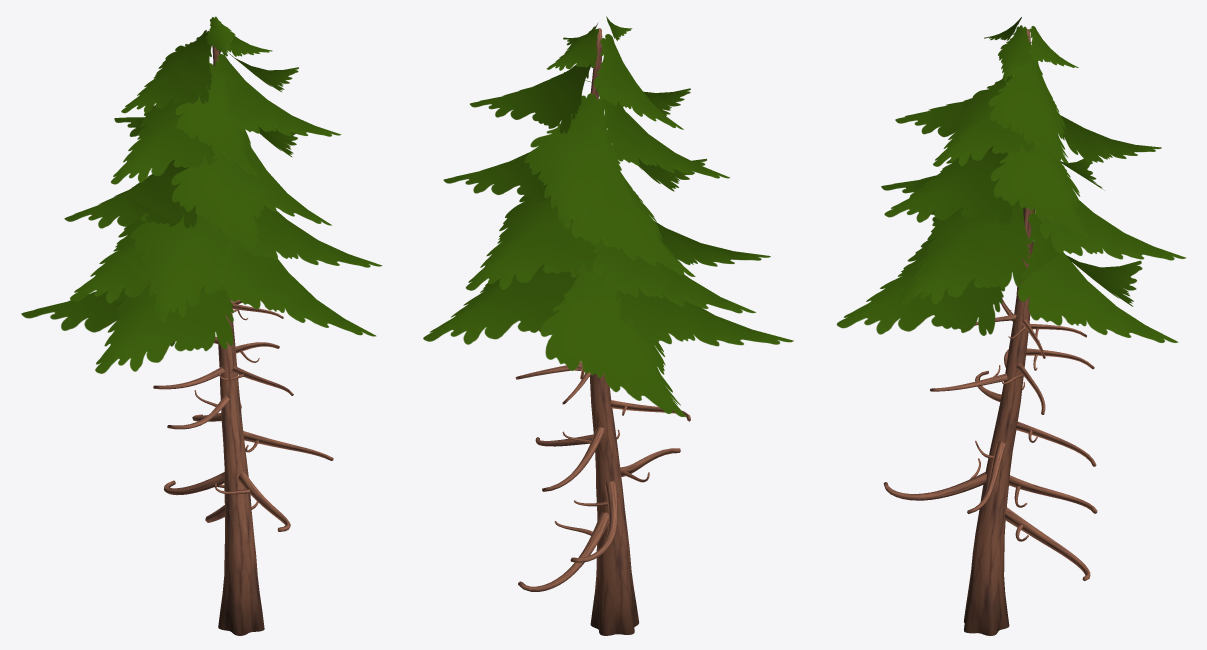
Rendered from pino.glb.
3 renders of one model, left to right at view 1: azimuth 30°, elevation 25°; view 2: azimuth 150°, elevation 25°; view 3: azimuth 270°, elevation 25°, orthographic. The views are drawn at different scales.
Visible parts, largest first — view 1: Pine_3; view 2: Pine_3; view 3: Pine_3.
Boxes of the visible parts, box(x1,y1,x2,y2) form: Pine_3: box(21, 16, 382, 635); Pine_3: box(423, 16, 793, 635); Pine_3: box(836, 17, 1186, 635).
Size of the model in its own units: 3.61 by 7.39 by 4.
2 materials, 2 textured.
